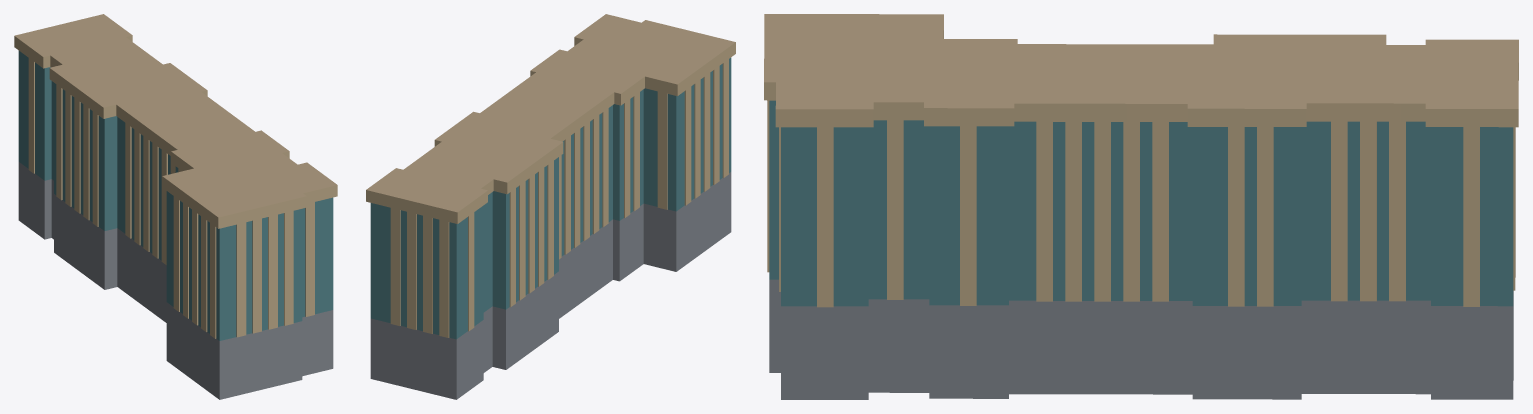
The model's file is slc_marriott_city_center.glb.
3 views of the same model, side by side, from view 1: azimuth 30°, elevation 25°; view 2: azimuth 150°, elevation 25°; view 3: azimuth 270°, elevation 25° (orthographic). The views are drawn at different scales.
Parts seen in each view (by area): view 1: Slc_Marriott_City_Center; view 2: Slc_Marriott_City_Center; view 3: Slc_Marriott_City_Center.
Boxes of the visible parts, box(x1,y1,x2,y2) form: Slc_Marriott_City_Center: box(14, 14, 337, 399); Slc_Marriott_City_Center: box(366, 14, 735, 399); Slc_Marriott_City_Center: box(764, 14, 1518, 399).
Size of the model in its own units: 35 by 50.1 by 117.
